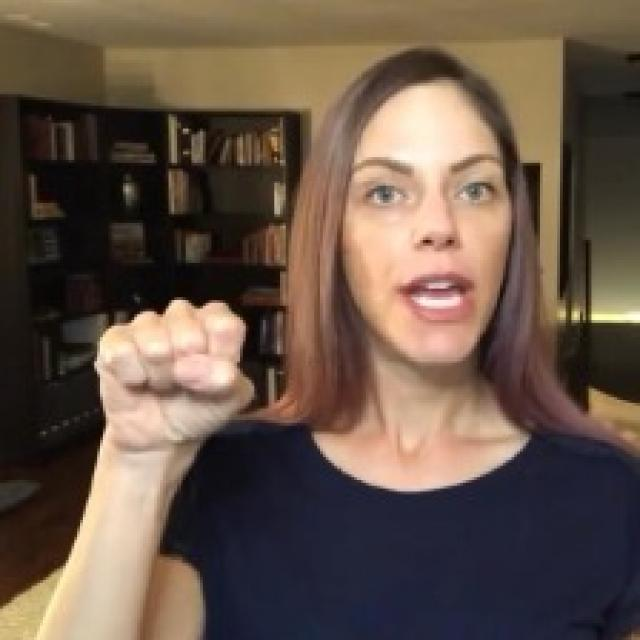yes: (92, 293, 259, 456)
